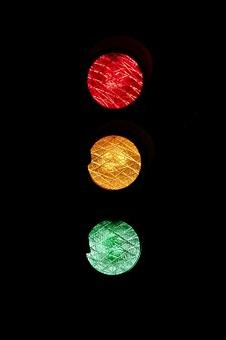trafic: (80, 29, 153, 293)
